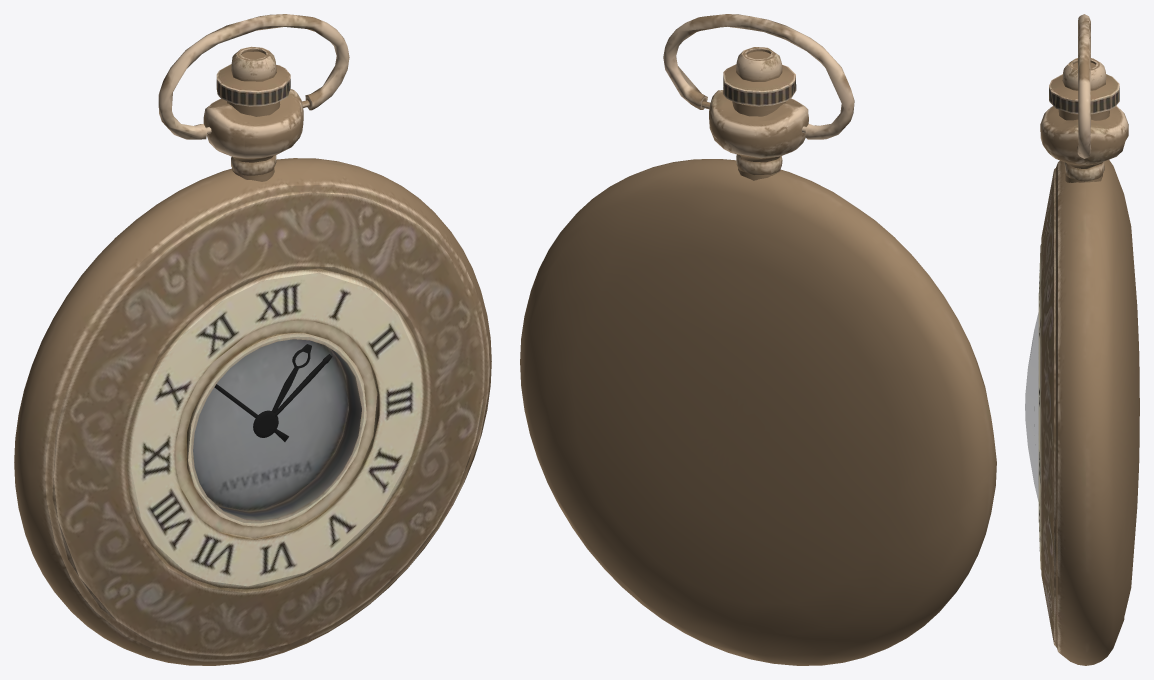
The model's file is vintage_pocket_watch.glb.
3 renders of one model, left to right at view 1: azimuth 30°, elevation 25°; view 2: azimuth 150°, elevation 25°; view 3: azimuth 270°, elevation 25°, orthographic. The views are drawn at different scales.
Parts seen in each view (by area): view 1: vintage_pocket_watch; view 2: vintage_pocket_watch; view 3: vintage_pocket_watch.
Part boxes in pixels (x1,y1,x2,y2): vintage_pocket_watch: (14, 14, 491, 665); vintage_pocket_watch: (520, 14, 996, 665); vintage_pocket_watch: (1025, 14, 1139, 665).
Bounding box in the file's own units: 0.0613 × 0.0799 × 0.0136.
Materials: 3 (1 with a texture image).
